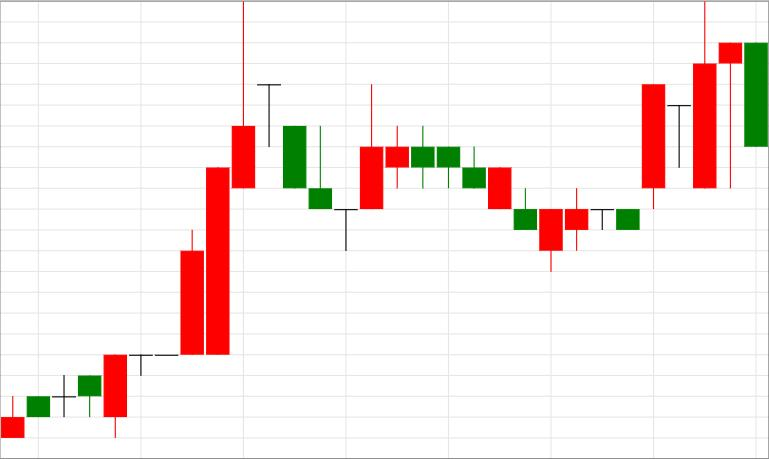evening_star_fall: (103, 1, 306, 438)
morning_star_rise: (257, 84, 384, 251)
